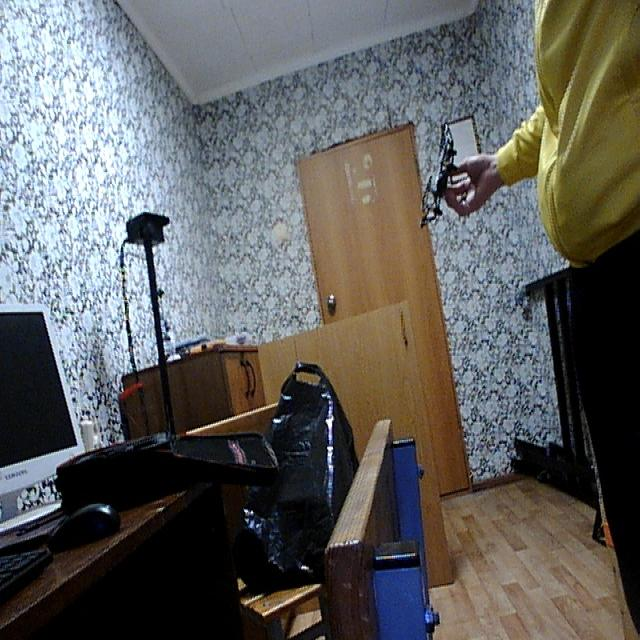drone: (414, 117, 466, 236)
